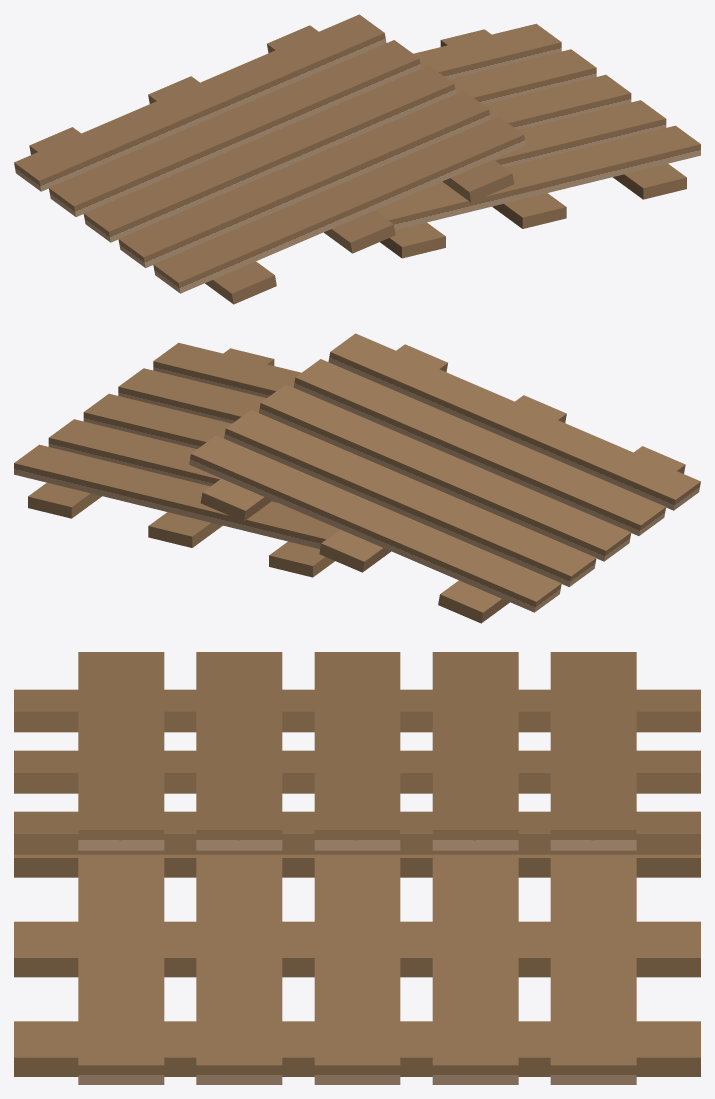
File: vox_lumber.glb
3 renders of one model, top to bottom at view 1: azimuth 30°, elevation 25°; view 2: azimuth 150°, elevation 25°; view 3: azimuth 270°, elevation 25°, orthographic. The views are drawn at different scales.
Parts seen in each view (by area): view 1: Object_91, Object_88; view 2: Object_91, Object_88; view 3: Object_88, Object_91.
Boxes of the visible parts, x1,y1,x2,y2 form: Object_91: (14,14,525,304); Object_88: (375,23,700,258); Object_91: (189,333,700,623); Object_88: (14,342,339,577); Object_88: (14,854,700,1084); Object_91: (14,652,700,854).
Size of the model in its own units: 3.06 by 0.45 by 2.06.
Materials: 2 (2 with a texture image).
